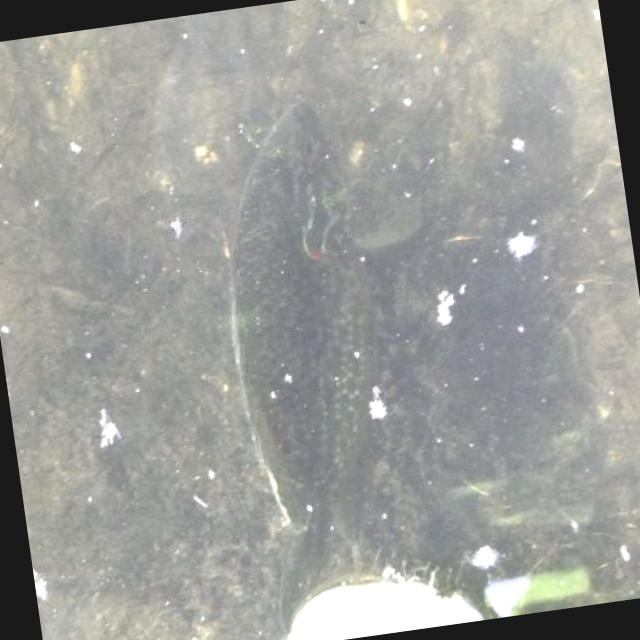Gunes Levregi: (177, 85, 461, 640)
